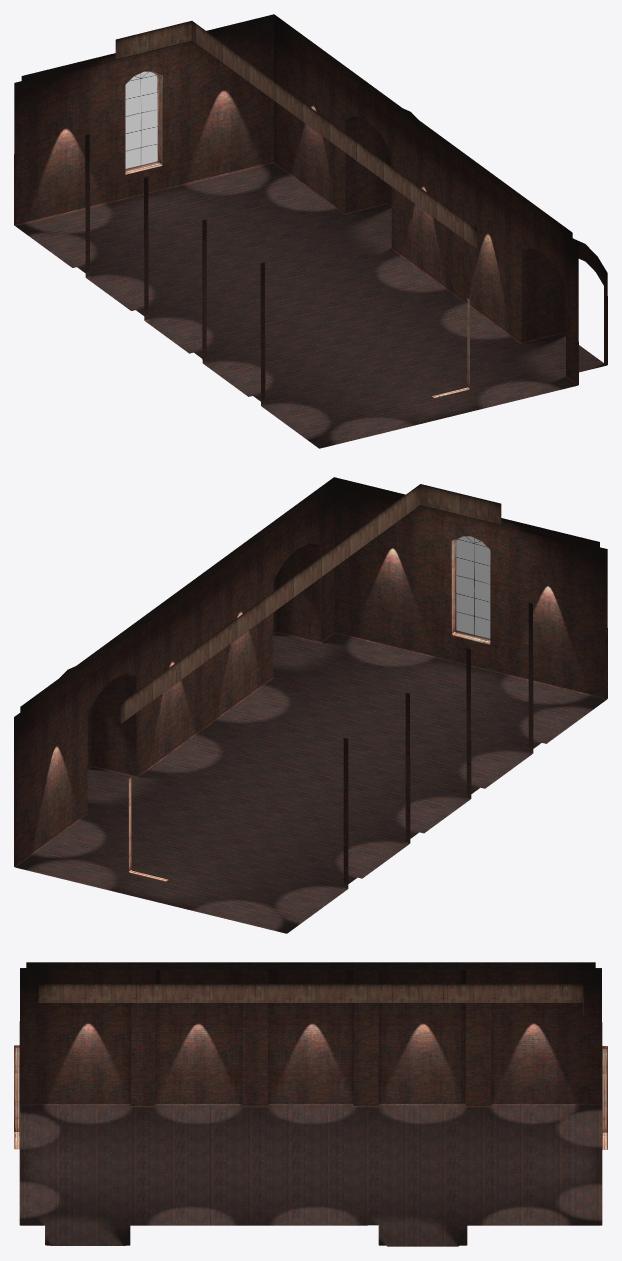
The model's file is backroom.glb.
The picture shows the model from 3 angles, top to bottom: view 1: azimuth 30°, elevation 25°; view 2: azimuth 150°, elevation 25°; view 3: azimuth 270°, elevation 25°; orthographic projection. The views are drawn at different scales.
Visible parts, largest first — view 1: InteriorFactory.floor.EXPORT, InteriorFactory.Walls.Entrance.EXPORT, InteriorFactory.Walls.Ends.EXPORT, InteriorFactory.Ceiling.EXPORT, InteriorFactory.windows.EXPORT, InteriorFactory.Walls.Backwall.EXPORT; view 2: InteriorFactory.floor.EXPORT, InteriorFactory.Walls.Entrance.EXPORT, InteriorFactory.Walls.Ends.EXPORT, InteriorFactory.Ceiling.EXPORT, InteriorFactory.windows.EXPORT, InteriorFactory.Walls.Backwall.EXPORT; view 3: InteriorFactory.floor.EXPORT, InteriorFactory.Walls.Backwall.EXPORT, InteriorFactory.Ceiling.EXPORT, InteriorFactory.Walls.Entrance.EXPORT, InteriorFactory.windows.EXPORT.
Part boxes in pixels (x1,y1,x2,y2): InteriorFactory.floor.EXPORT: (15, 163, 606, 448); InteriorFactory.Walls.Entrance.EXPORT: (14, 22, 607, 406); InteriorFactory.Walls.Ends.EXPORT: (14, 22, 273, 224); InteriorFactory.Ceiling.EXPORT: (21, 14, 572, 248); InteriorFactory.windows.EXPORT: (125, 71, 469, 397); InteriorFactory.Walls.Backwall.EXPORT: (85, 134, 265, 405); InteriorFactory.floor.EXPORT: (15, 633, 606, 933); InteriorFactory.Walls.Entrance.EXPORT: (14, 486, 607, 889); InteriorFactory.Walls.Ends.EXPORT: (334, 486, 607, 698); InteriorFactory.Ceiling.EXPORT: (20, 477, 599, 723); InteriorFactory.windows.EXPORT: (128, 535, 490, 881); InteriorFactory.Walls.Backwall.EXPORT: (343, 603, 533, 888); InteriorFactory.floor.EXPORT: (20, 1105, 601, 1246); InteriorFactory.Walls.Backwall.EXPORT: (19, 968, 602, 1105); InteriorFactory.Ceiling.EXPORT: (26, 962, 595, 1015); InteriorFactory.Walls.Entrance.EXPORT: (19, 1104, 602, 1245); InteriorFactory.windows.EXPORT: (14, 1045, 607, 1149).
Bounding box in the file's own units: 21.72 × 11.72 × 38.48.
Materials: 6 (6 with a texture image).
